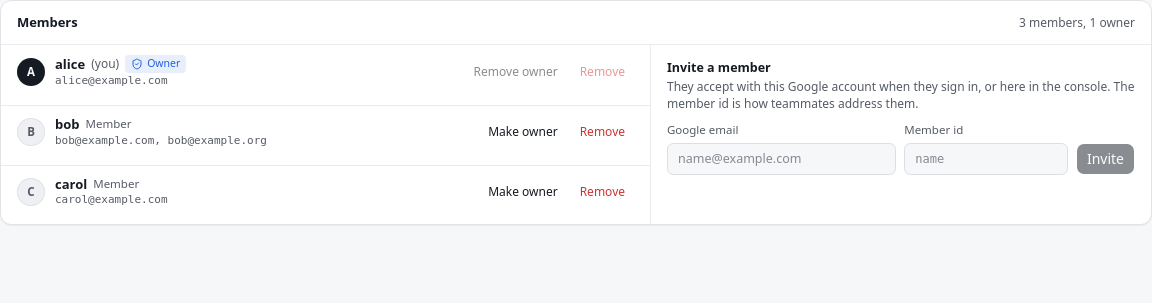
Members panel: owner (M6 §4) › adds by email with the member id suggested from the local part, and sends exactly that
Expected: the text "carol@example.com" is shown, top-left (55, 193), bottom-right (168, 206)
Type "Dave.Smith+relay@Example.com" into the field labelled "Google email" at (782, 159), box top-left (667, 143), bottom-right (896, 175)
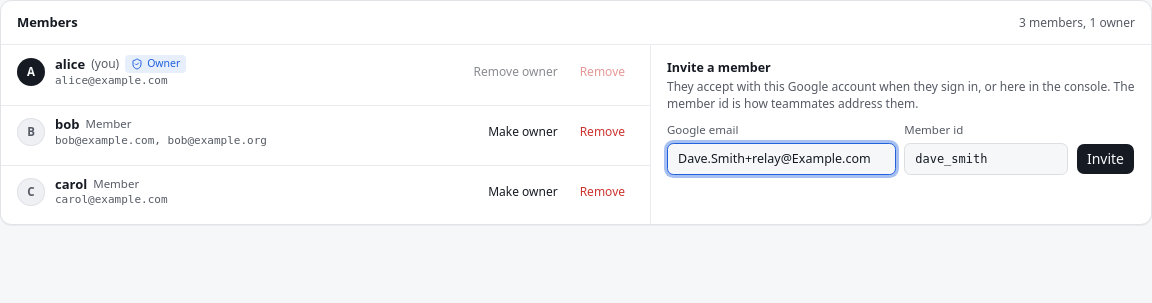
Result: the field labelled "Member id" holds "dave_smith" at top-left (904, 143), bottom-right (1068, 175)
Click the button "Invite" at (1105, 159), box top-left (1076, 143), bottom-right (1135, 175)
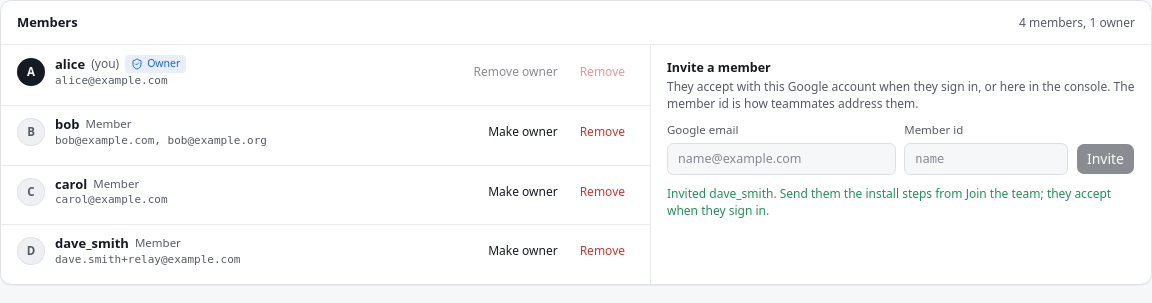
Result: the text "Invited dave_smith. Send them the install steps" is shown at top-left (667, 185), bottom-right (1135, 220)
Result: the field labelled "Google email" is empty at top-left (667, 143), bottom-right (896, 175)
